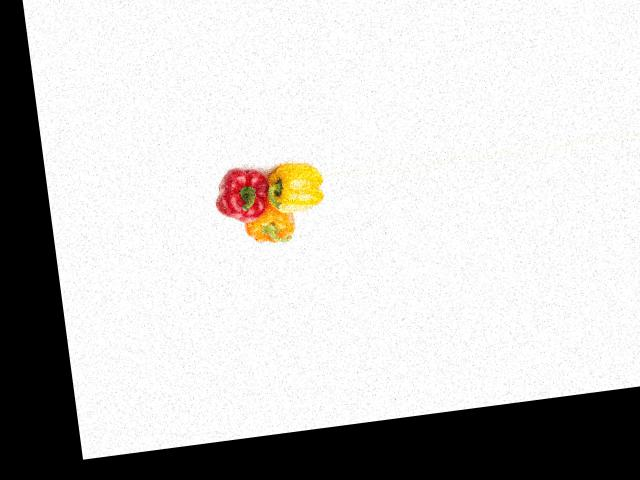bell_pepper: (266, 155, 327, 216)
